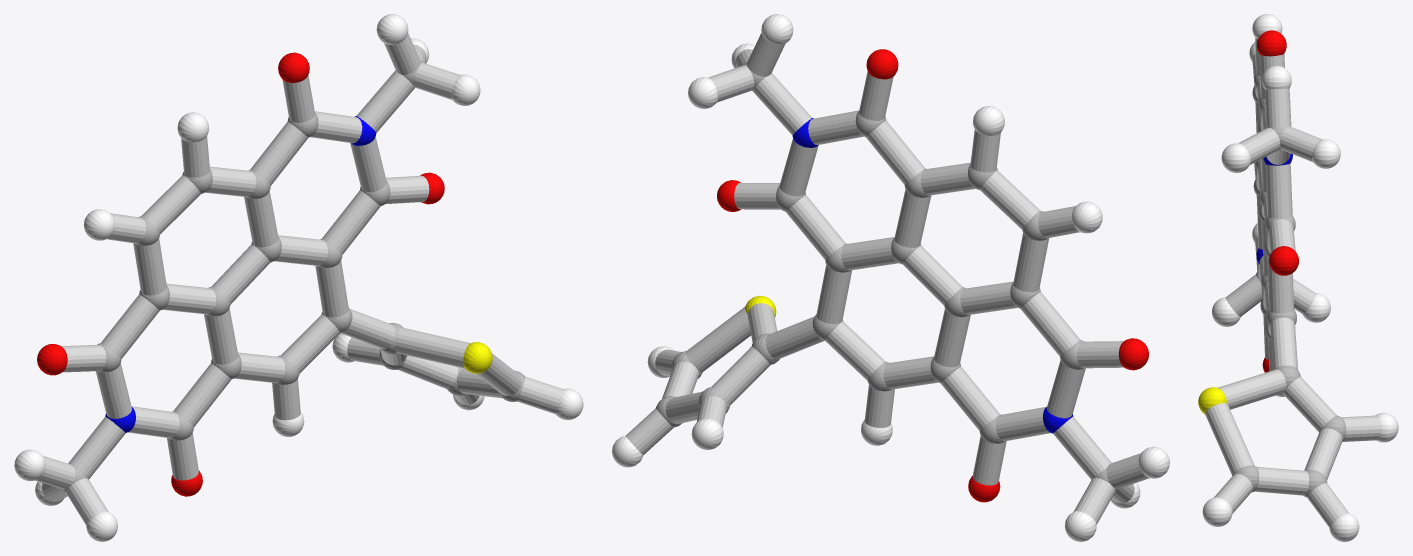
The model's file is Dimethyl_Naphthalene_Dicarboximide_Phi_5_Theta_250_Thiophene.glb.
The picture shows the model from 3 angles, left to right: view 1: azimuth 30°, elevation 25°; view 2: azimuth 150°, elevation 25°; view 3: azimuth 270°, elevation 25°; orthographic projection. The views are drawn at different scales.
Visible parts, largest first — view 1: grp14119, grp7241, grp1, grp12309, grp13757, grp11585; view 2: grp14119, grp7241, grp1, grp12309, grp11585; view 3: grp14119, grp7241, grp1, grp12309, grp13757.
Boxes of the visible parts, x1,y1,x2,y2 form: grp14119: (35, 33, 563, 524); grp7241: (14, 14, 583, 541); grp1: (61, 60, 525, 492); grp12309: (37, 52, 444, 496); grp13757: (463, 342, 492, 373); grp11585: (105, 116, 376, 432); grp14119: (625, 33, 1149, 524); grp7241: (612, 14, 1169, 541); grp1: (656, 62, 1119, 492); grp12309: (717, 49, 1148, 502); grp11585: (792, 118, 1073, 433); grp14119: (1205, 38, 1381, 527); grp7241: (1202, 14, 1398, 541); grp1: (1232, 73, 1346, 497); grp12309: (1257, 30, 1298, 372); grp13757: (1198, 387, 1226, 413).
Bounding box in the file's own units: 11.76 × 9.32 × 4.01.
